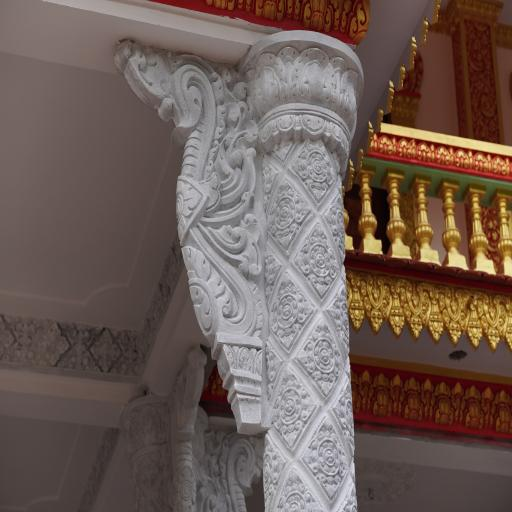hoa: (297, 409, 347, 503), (298, 308, 351, 396), (265, 362, 313, 449), (288, 136, 344, 204), (265, 266, 311, 344), (331, 368, 364, 473), (292, 220, 340, 290), (263, 176, 307, 248), (328, 277, 360, 362), (273, 461, 323, 512), (325, 185, 351, 265)
la: (357, 272, 397, 332), (396, 279, 432, 341), (431, 284, 468, 344), (471, 295, 509, 346), (362, 366, 397, 421), (340, 0, 374, 47), (396, 372, 429, 418), (296, 0, 340, 34), (456, 382, 487, 428), (487, 385, 512, 434), (429, 378, 456, 423), (394, 134, 416, 162), (414, 134, 435, 162), (472, 148, 490, 177), (454, 144, 474, 170), (490, 149, 509, 176), (374, 134, 396, 157), (435, 140, 452, 168)
ran: (117, 28, 269, 442), (202, 422, 261, 512)
